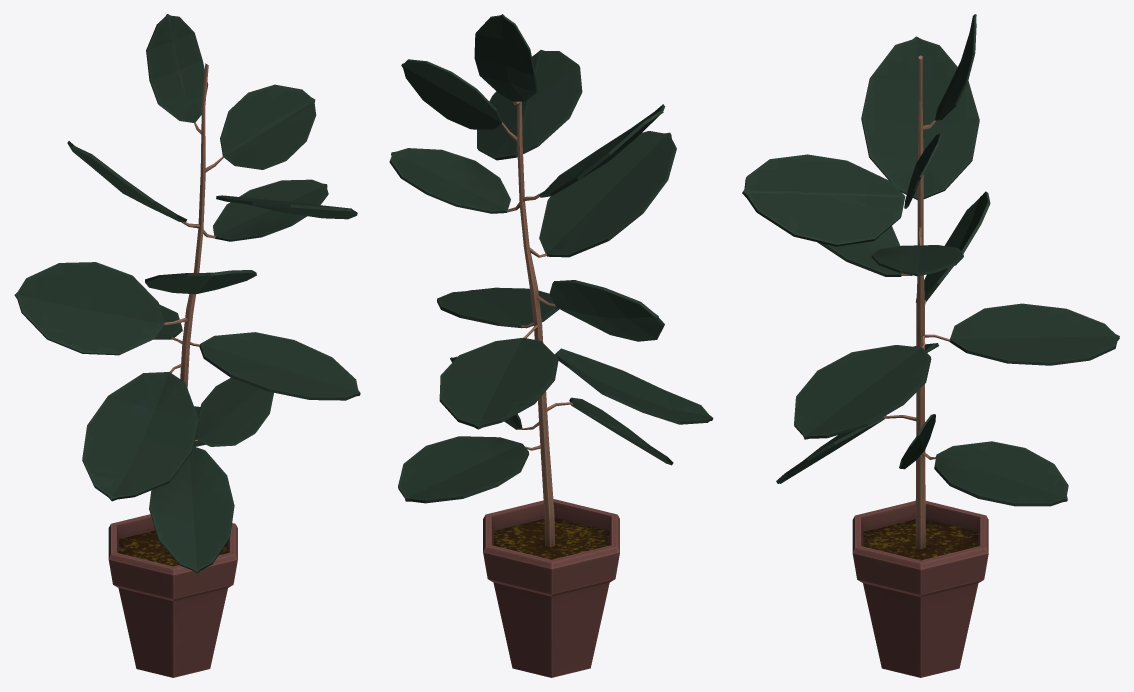
The model's file is FigPlant-transformed.glb.
3 views of the same model, side by side, from view 1: azimuth 30°, elevation 25°; view 2: azimuth 150°, elevation 25°; view 3: azimuth 270°, elevation 25° (orthographic). The views are drawn at different scales.
Visible parts, largest first — view 1: RubberFigPottedPlant_mesh; view 2: RubberFigPottedPlant_mesh; view 3: RubberFigPottedPlant_mesh.
Boxes of the visible parts, x1=… form: RubberFigPottedPlant_mesh: x1=14, y1=14, x2=360, y2=677; RubberFigPottedPlant_mesh: x1=389, y1=14, x2=713, y2=677; RubberFigPottedPlant_mesh: x1=742, y1=14, x2=1119, y2=677.
Bounding box in the file's own units: 5.21 × 10.98 × 5.74.
1 material, 1 textured.
